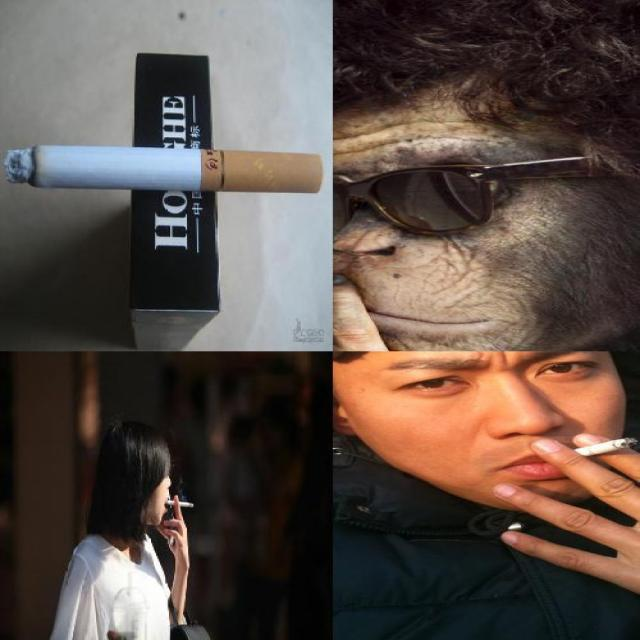smoking: (2, 142, 324, 197), (564, 436, 638, 462), (165, 499, 195, 510)
